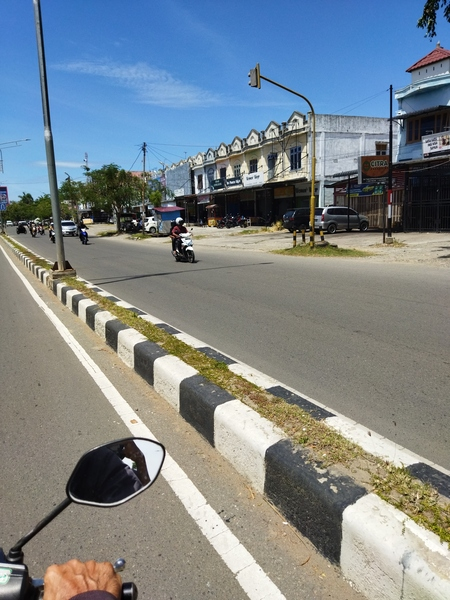car: (309, 204, 372, 238), (280, 205, 317, 230)
motorcycle: (169, 231, 198, 265), (75, 227, 91, 245)
